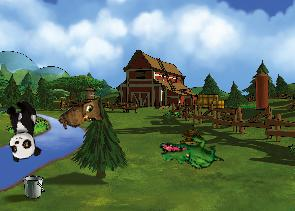crocodile: (157, 128, 224, 178)
owl: (56, 92, 110, 141)
panda: (2, 98, 42, 162)
